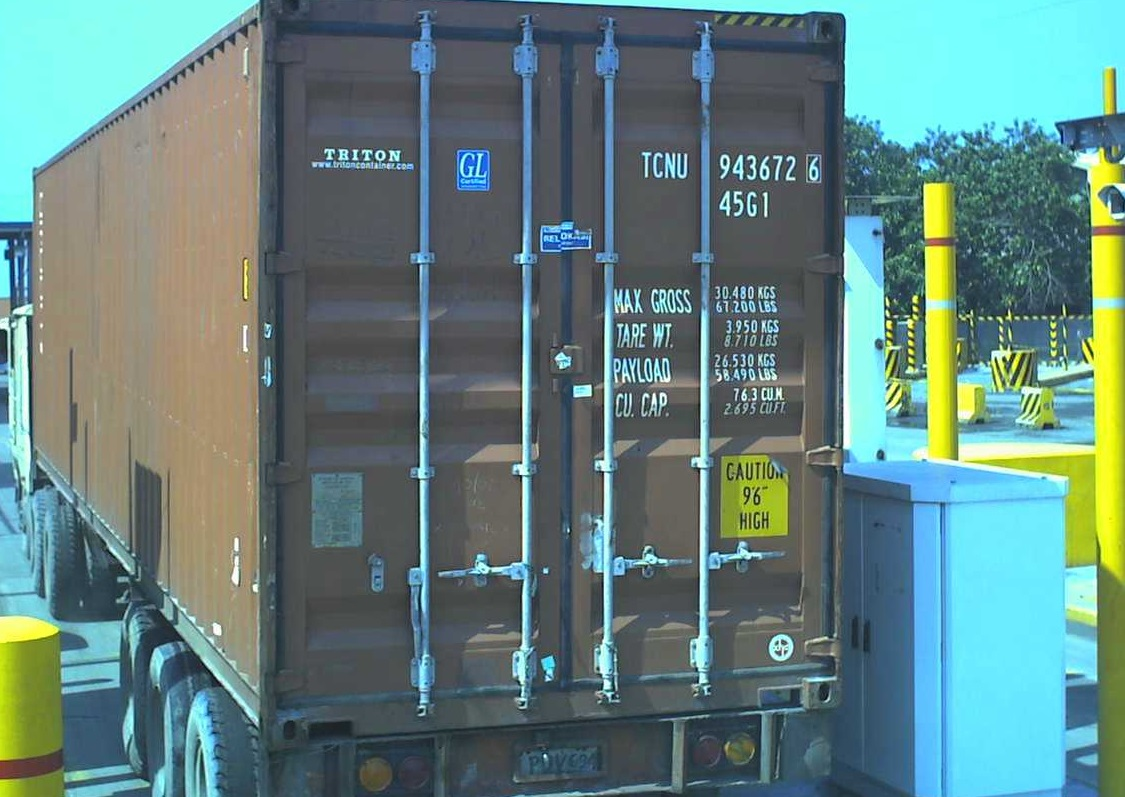container_door: (255, 3, 842, 747)
